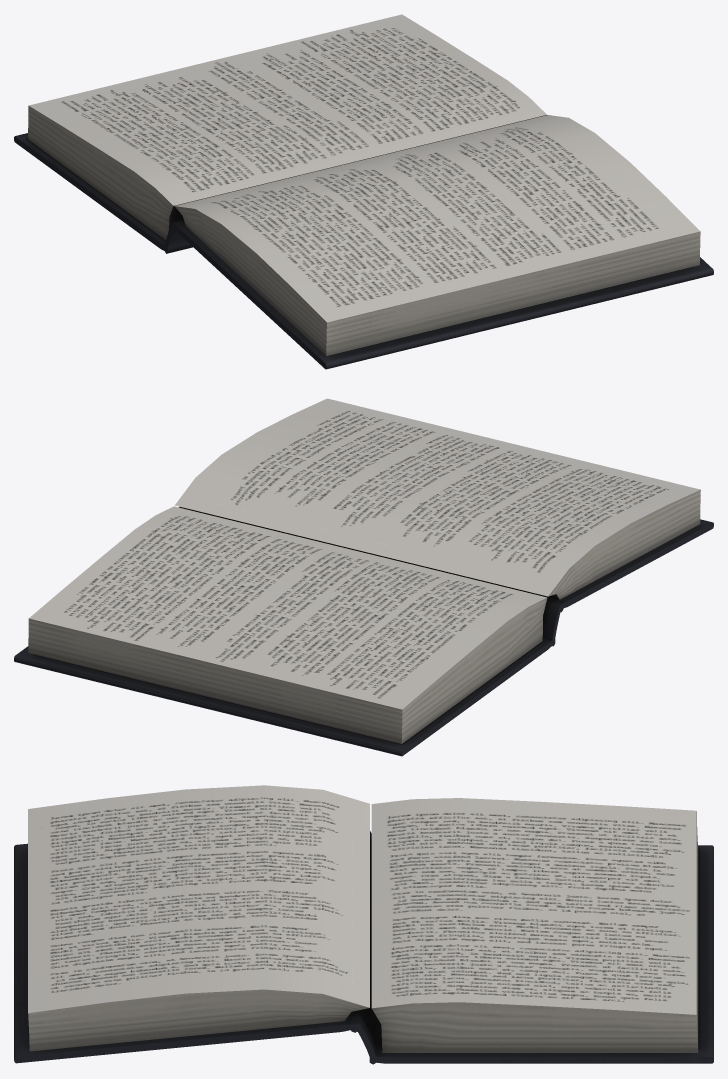
File: OpenBook.fbx
3 renders of one model, top to bottom at view 1: azimuth 30°, elevation 25°; view 2: azimuth 150°, elevation 25°; view 3: azimuth 270°, elevation 25°, orthographic. The views are drawn at different scales.
Parts seen in each view (by area): view 1: book_a_open; view 2: book_a_open; view 3: book_a_open.
Boxes of the visible parts, bbox=[...] form: book_a_open: bbox=[14, 14, 713, 369]; book_a_open: bbox=[14, 398, 713, 756]; book_a_open: bbox=[14, 785, 713, 1064].
Bounding box in the file's own units: 2010 × 315 × 2807.
